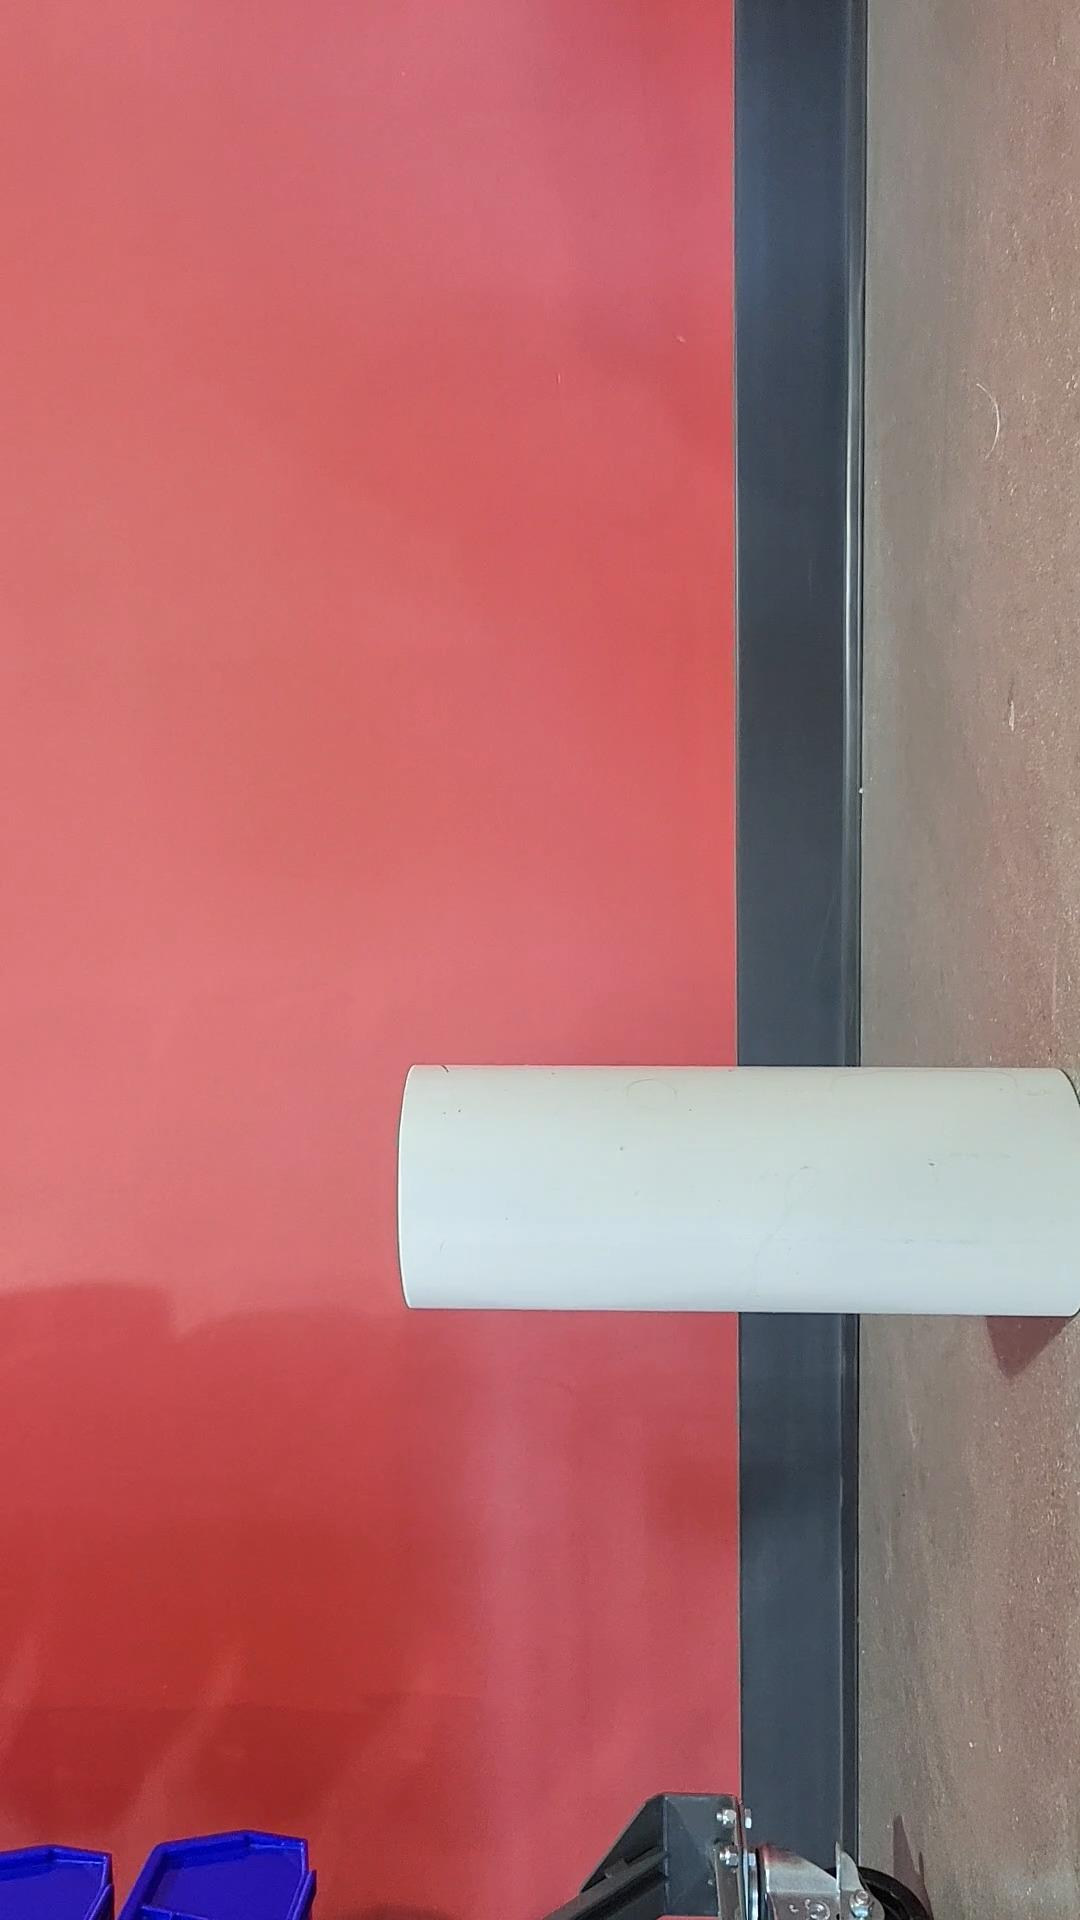coral: (397, 1060, 1080, 1312)
